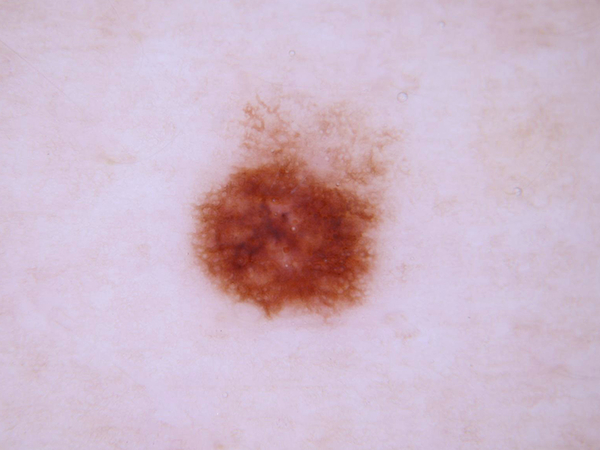Detected Lesion: (179, 109, 399, 327)
